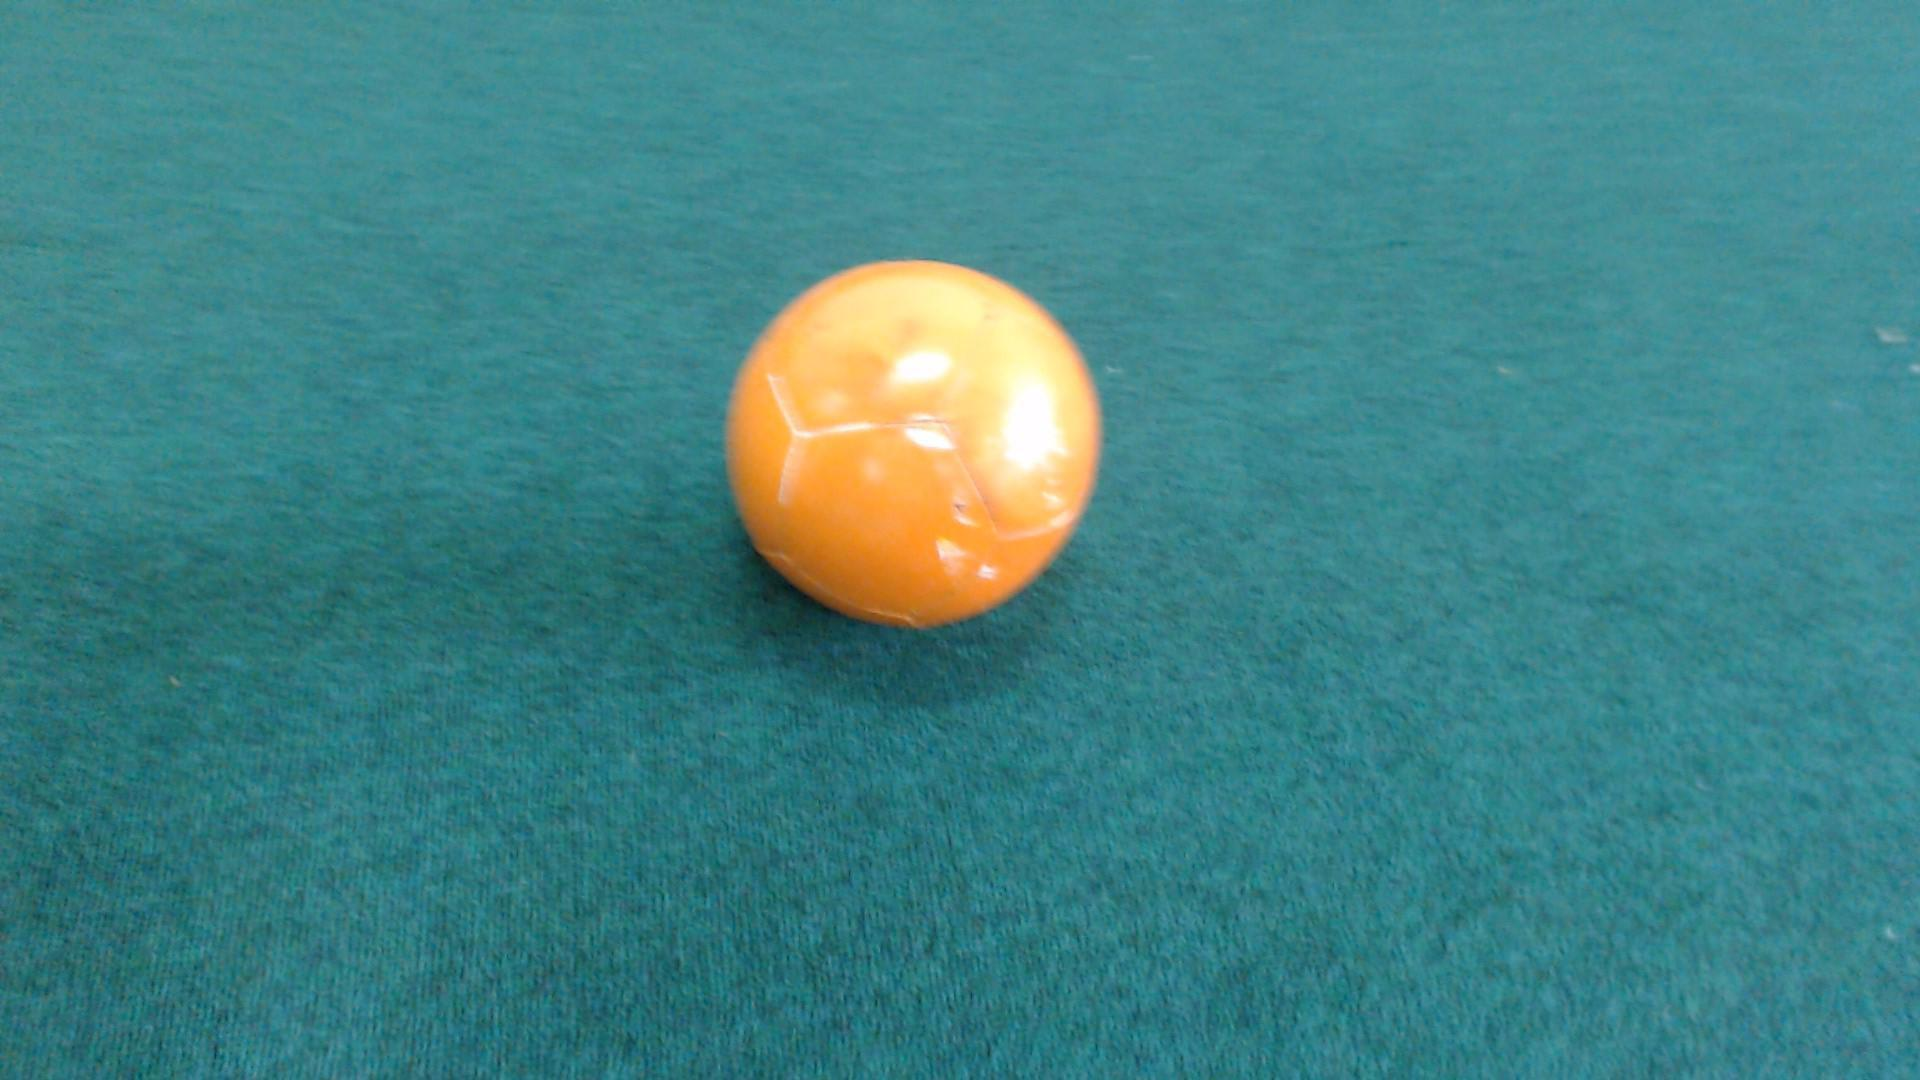bola: (700, 243, 1112, 633)
